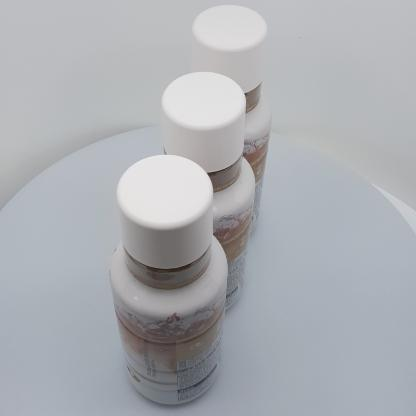----------1-1L: (109, 155, 227, 404)
